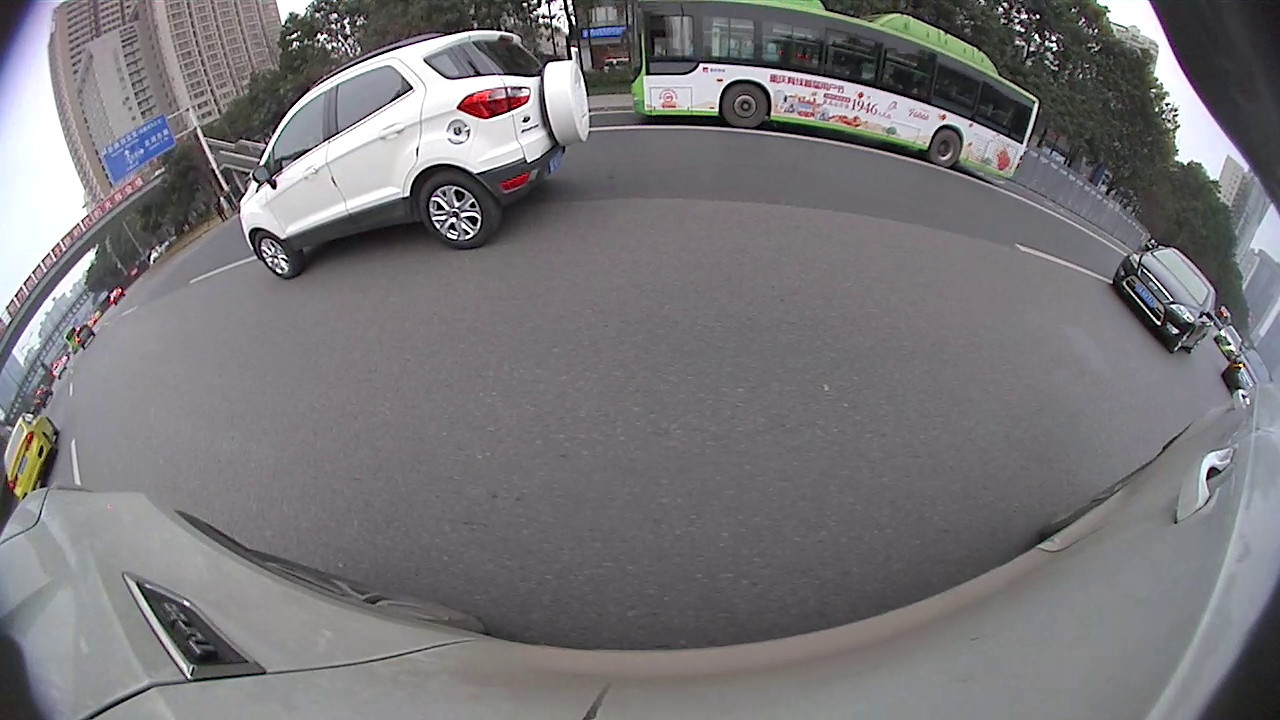bus: (629, 1, 1041, 186)
car: (237, 30, 592, 281), (1113, 244, 1218, 354), (3, 412, 57, 501)
front: (719, 82, 772, 127), (250, 235, 303, 275)
rear: (421, 169, 498, 248), (933, 129, 962, 165)
